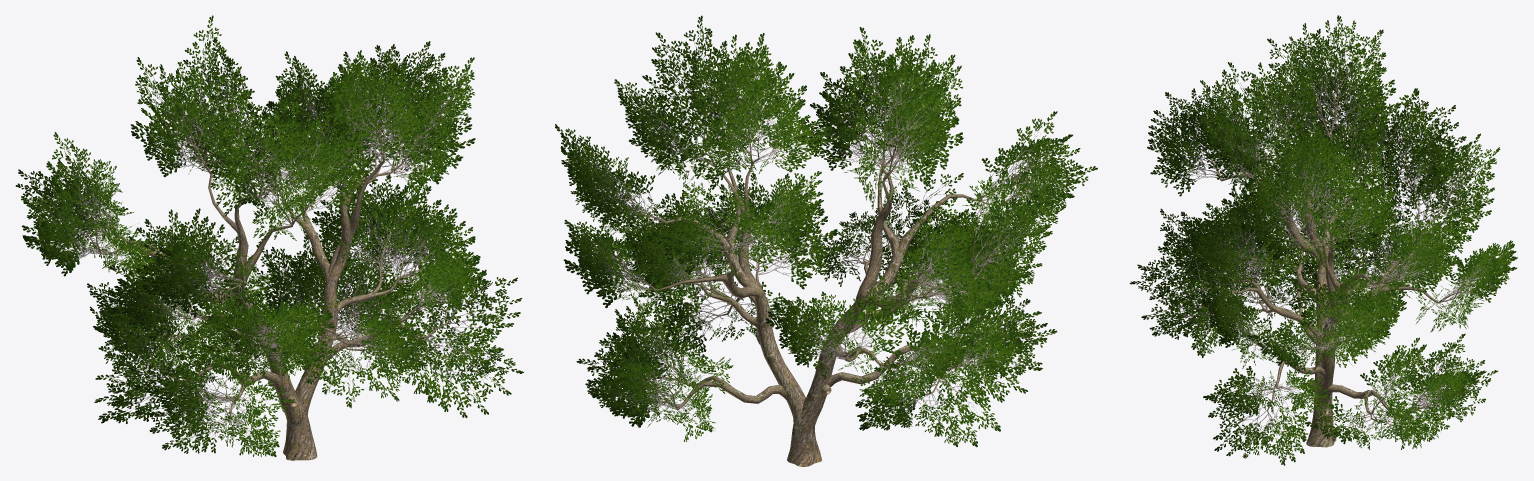
The model's file is Oakthirty.obj.
3 views of the same model, side by side, from view 1: azimuth 30°, elevation 25°; view 2: azimuth 150°, elevation 25°; view 3: azimuth 270°, elevation 25° (orthographic). The views are drawn at different scales.
Visible parts, largest first — view 1: oak leaf, mossybark02; view 2: oak leaf, mossybark02; view 3: oak leaf, mossybark02.
Boxes of the visible parts, x1,y1,x2,y2 form: oak leaf: (15,15,523,457); mossybark02: (71,81,463,460); oak leaf: (555,15,1097,447); mossybark02: (609,90,1034,466); oak leaf: (1129,15,1517,465); mossybark02: (1181,61,1469,447).
Size of the model in its own units: 1049 by 972 by 877.
Materials: 3 (3 with a texture image).
